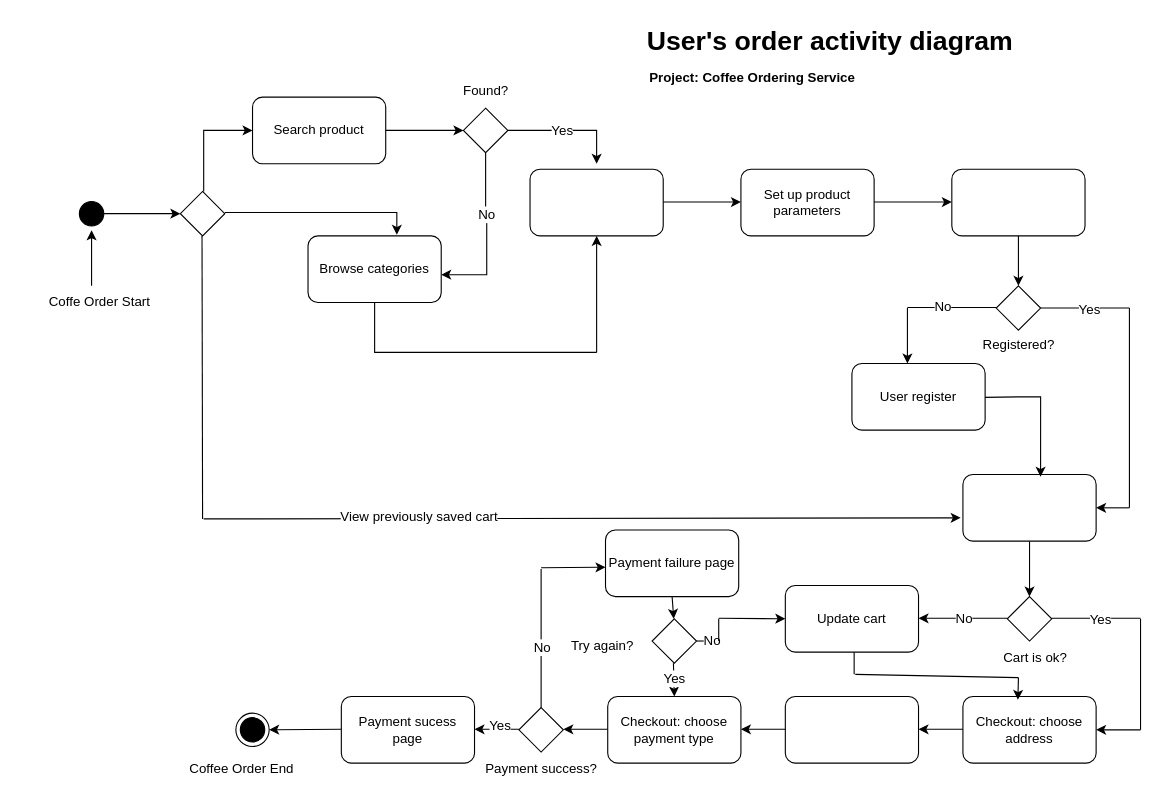
The diagram is 1169 pixels wide and 804 high, and some of its shapes have lost their labels. Here are the shapes that lost their labels. From the top down, the box of each, then its label:
(529, 168, 663, 236): View product
(951, 168, 1085, 236): Add to cart
(962, 473, 1096, 541): View cart
(784, 695, 919, 763): Checkout: choose delivery type
